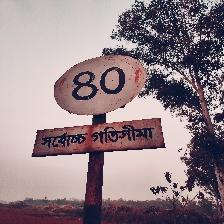Speed-limit: (36, 53, 158, 156)
